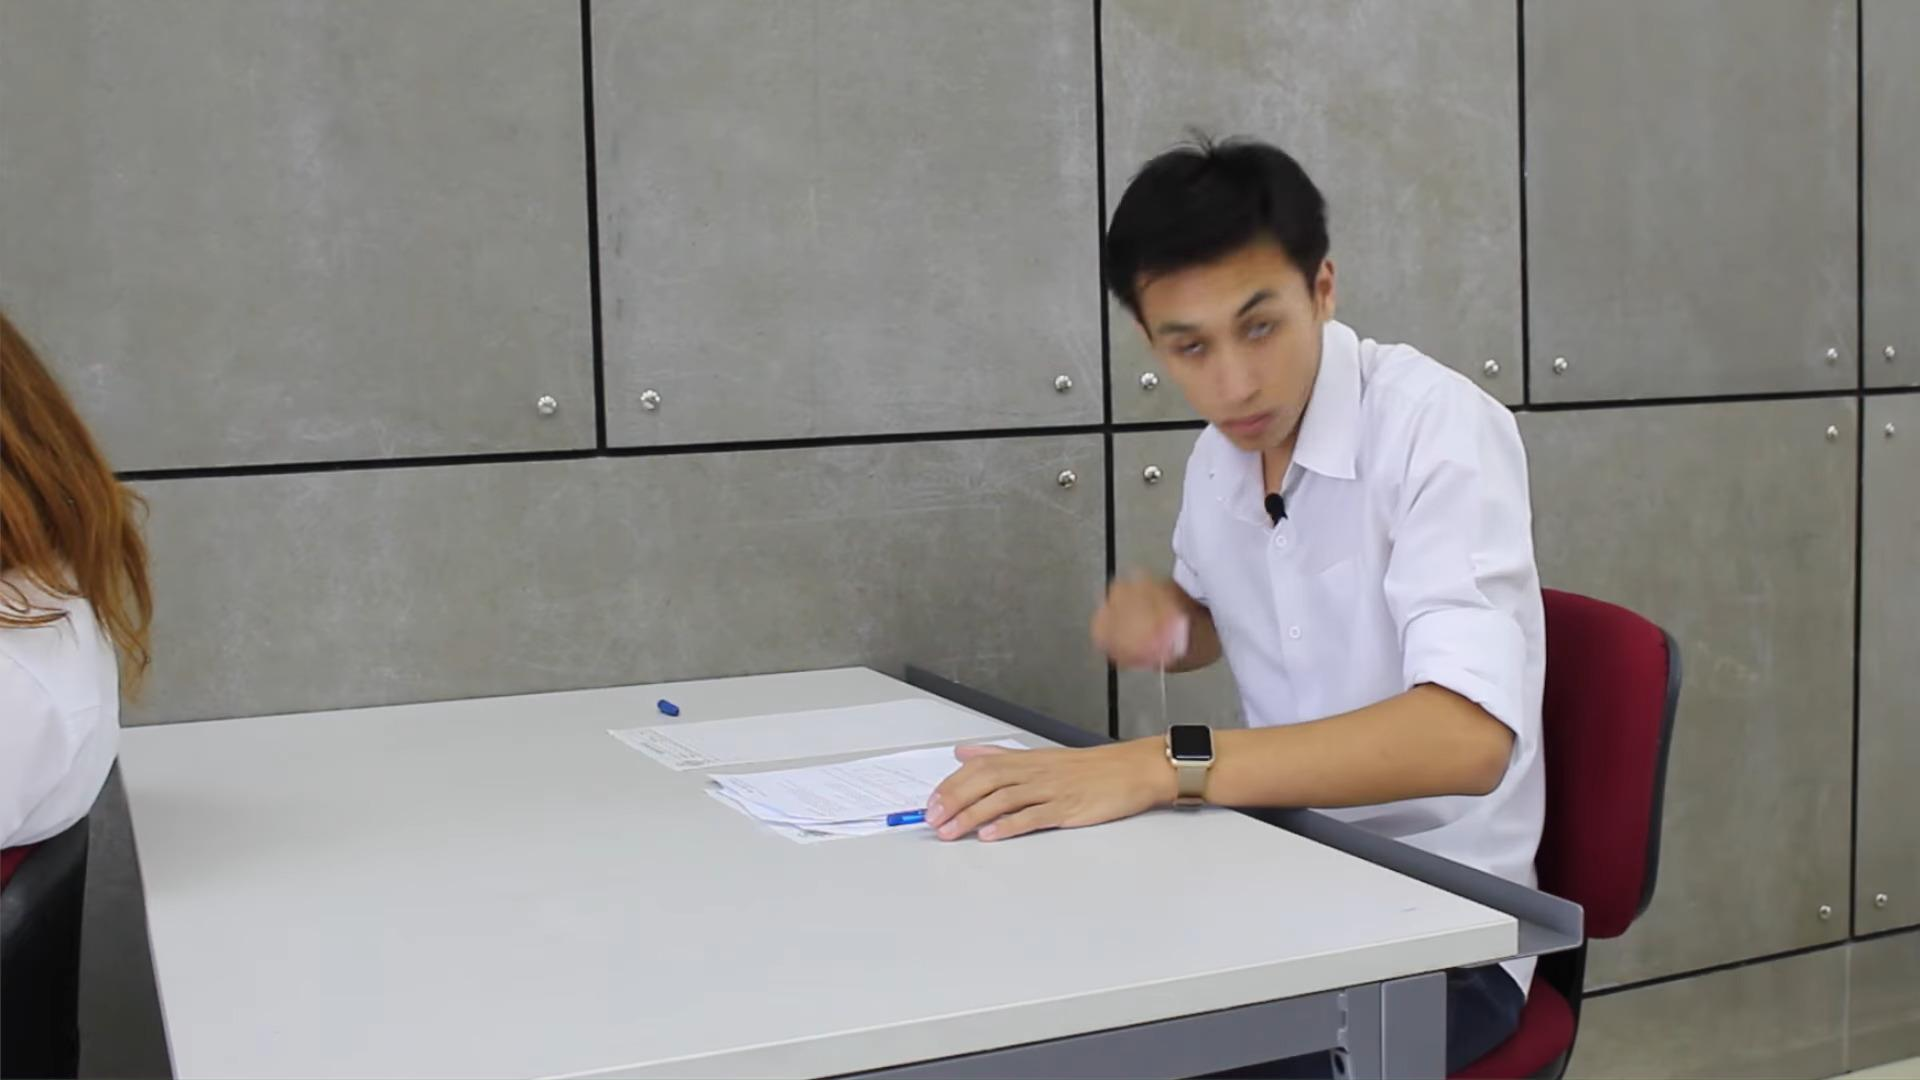cheating: (580, 111, 1581, 902)
